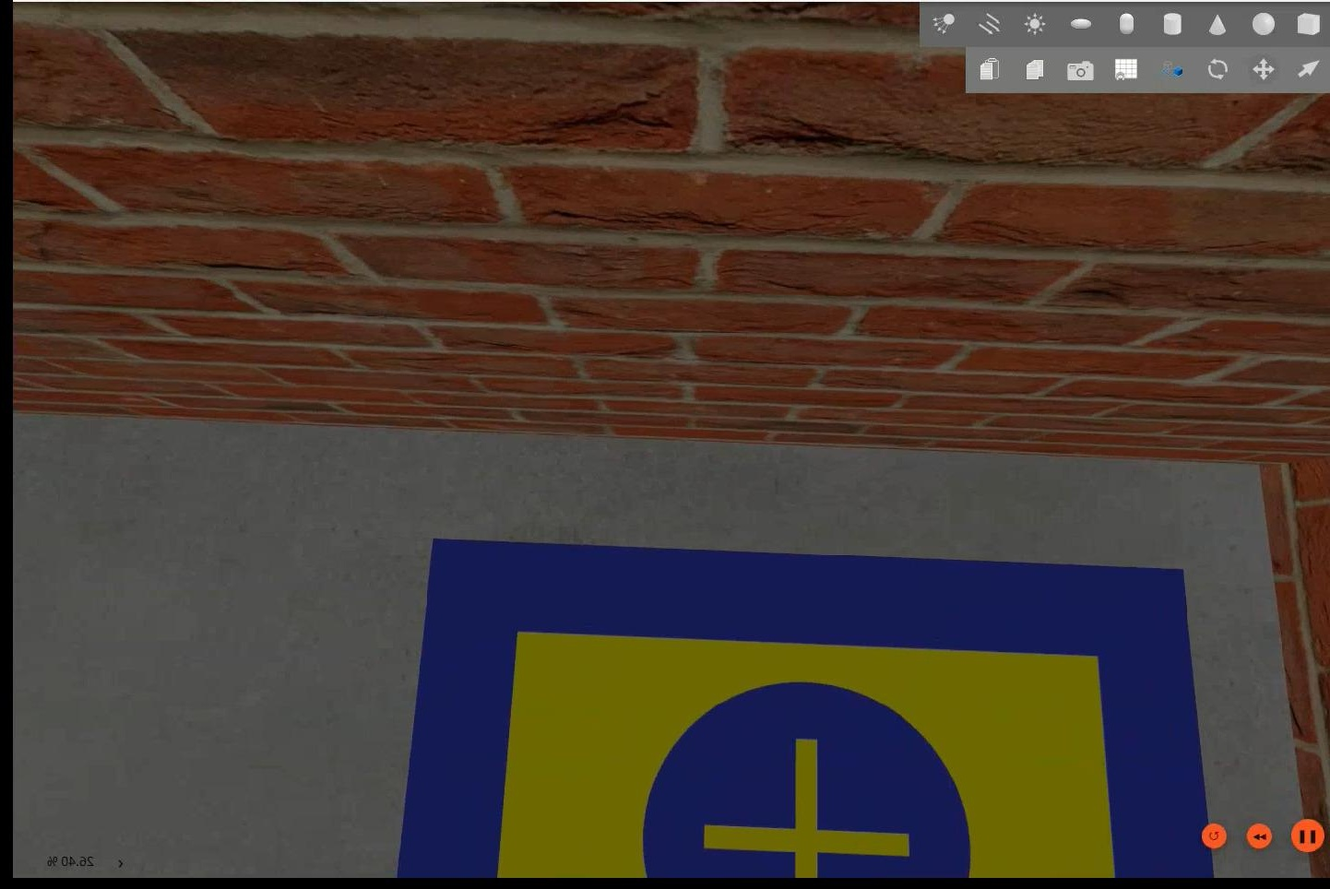large_base: (394, 535, 1211, 880)
